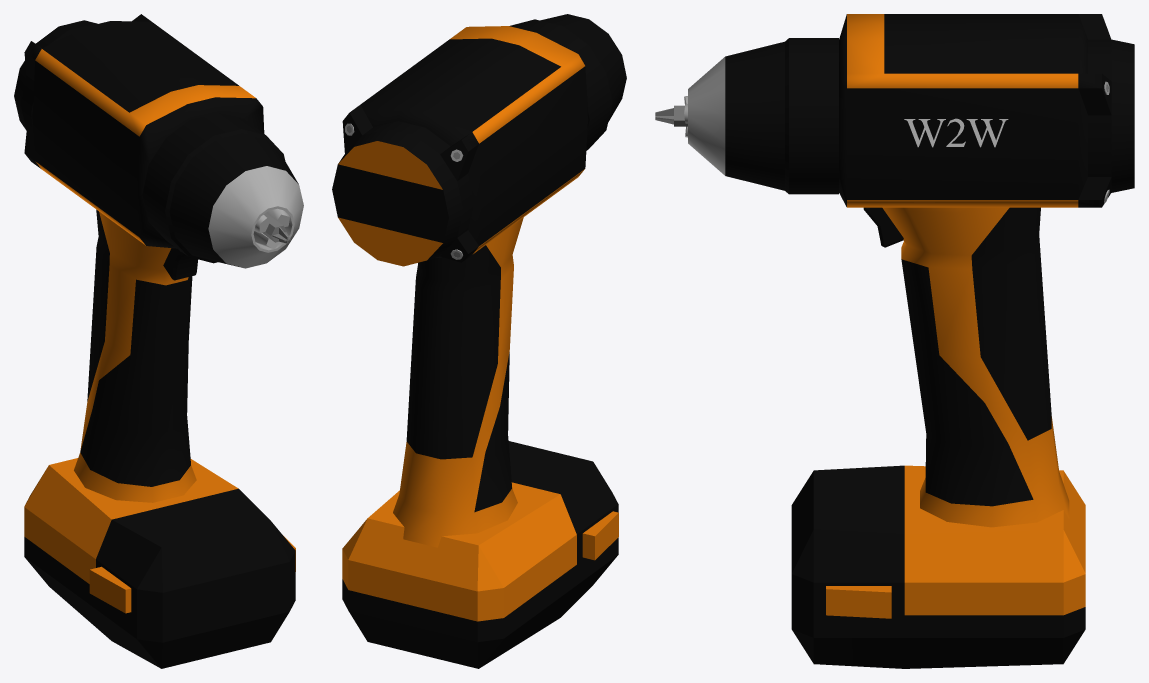
Rendered from WW_drill_prop.fbx.
3 views of the same model, side by side, from view 1: azimuth 30°, elevation 25°; view 2: azimuth 150°, elevation 25°; view 3: azimuth 270°, elevation 25° (orthographic). The views are drawn at different scales.
Visible parts, largest first — view 1: body_geo, battery_geo, chuck_geo, trigger_geo, bit_geo; view 2: body_geo, battery_geo, chuck_geo; view 3: body_geo, battery_geo, chuck_geo, W2W_text_geo, trigger_geo.
Boxes of the visible parts, box(x1,y1,x2,y2) form: body_geo: box(14, 14, 264, 583); battery_geo: box(24, 488, 295, 668); chuck_geo: box(142, 112, 303, 268); trigger_geo: box(163, 248, 198, 280); bit_geo: box(262, 213, 290, 243); body_geo: box(332, 26, 588, 621); battery_geo: box(342, 441, 618, 668); chuck_geo: box(509, 14, 626, 150); body_geo: box(839, 14, 1134, 615); battery_geo: box(791, 465, 1085, 668); chuck_geo: box(684, 38, 838, 194); W2W_text_geo: box(904, 118, 1008, 147); trigger_geo: box(863, 207, 903, 247).
Bounding box in the file's own units: 5.12 × 14.55 × 10.49.
